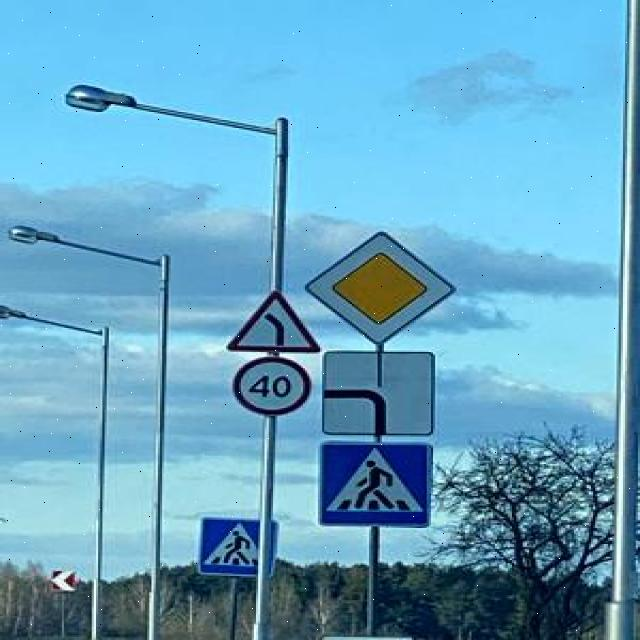speed limit 40: (233, 358, 311, 415)
